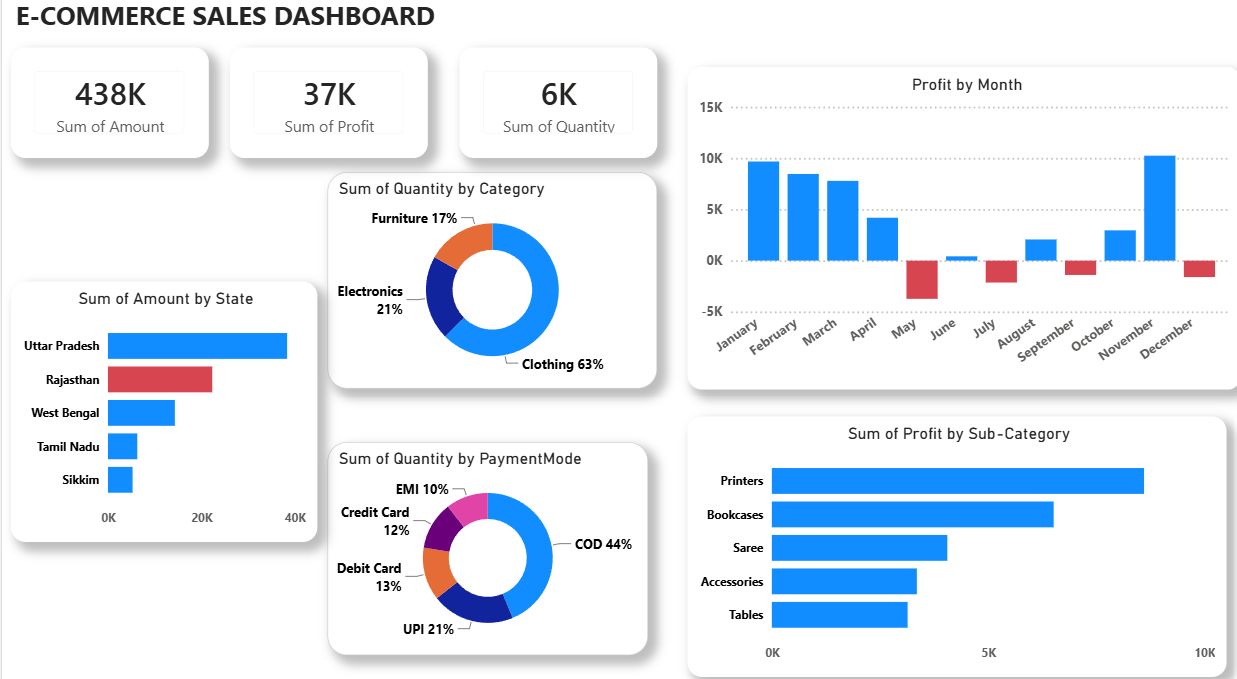

What the dashboard file says about the page in this screenshot:
{"tool":"powerbi","page":{"name":"Page 1","canvas":[1280,720],"ordinal":0},"visuals":[{"type":"textbox","box":[9.8,0,496.1,56.9],"z":0},{"type":"columnChart","title":"Profit by Month","fields":{"Category":["Orders.Order Date.Variation.Date Hierarchy.Month"],"Y":["Sum(Details.Profit)"]},"box":[706.4,77,573,332.5],"z":1000},{"type":"clusteredBarChart","fields":{"Category":["Details.Sub-Category"],"Y":["Sum(Details.Profit)"]},"box":[706.4,437.7,556.1,268.7],"z":2000},{"type":"donutChart","fields":{"Y":["Sum(Details.Quantity)"],"Category":["Details.Category"]},"box":[336.3,186,340,223.6],"z":3000},{"type":"donutChart","fields":{"Category":["Details.PaymentMode"],"Y":["Sum(Details.Quantity)"]},"box":[336.3,464,330.6,219.8],"z":4000},{"type":"cardVisual","fields":{"Data":["Sum(Details.Amount)"]},"box":[9.8,56.9,203.9,113.7],"z":5000},{"type":"cardVisual","fields":{"Data":["Sum(Details.Profit)"]},"box":[235.3,56.9,203.9,113.7],"z":6000},{"type":"cardVisual","fields":{"Data":["Sum(Details.Quantity)"]},"box":[472.5,56.9,203.9,113.7],"z":7000},{"type":"clusteredBarChart","fields":{"Category":["Orders.State"],"Y":["Sum(Details.Amount)"]},"box":[9.8,298,315.7,268.6],"z":8000}]}

Visuals, with their boxes in screenshot pixels (x1, y1, x2, y2), scaled from the page's 1280x720 canvas onto the 1237x679 screenshot:
textbox: (9,0,489,54)
"Profit by Month" columnChart: (683,73,1236,386)
clusteredBarChart - Details.Sub-Category x Sum(Details.Profit): (683,413,1220,666)
donutChart - Sum(Details.Quantity) x Details.Category: (325,175,654,386)
donutChart - Details.PaymentMode x Sum(Details.Quantity): (325,438,644,645)
cardVisual - Sum(Details.Amount): (9,54,207,161)
cardVisual - Sum(Details.Profit): (227,54,424,161)
cardVisual - Sum(Details.Quantity): (457,54,654,161)
clusteredBarChart - Orders.State x Sum(Details.Amount): (9,281,315,534)
